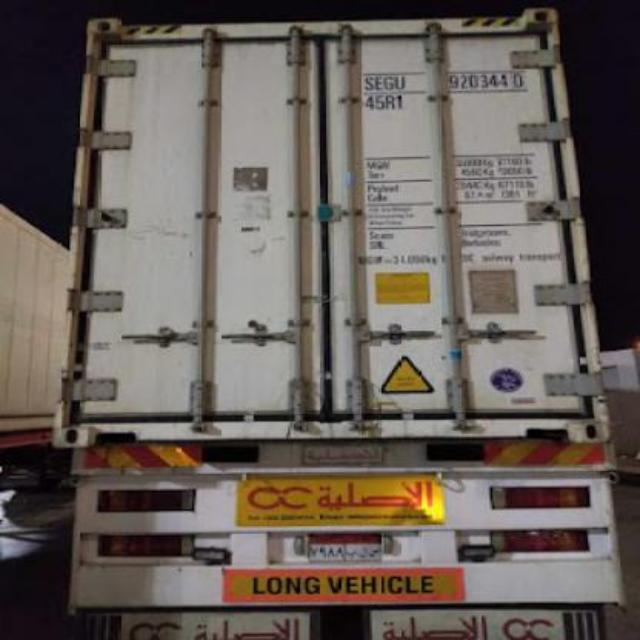0: (468, 74, 480, 90), (512, 74, 524, 90)
2: (460, 72, 468, 92)
3: (478, 74, 490, 90)
4: (488, 74, 500, 90), (498, 72, 510, 88)
9: (448, 75, 460, 91)
E: (376, 75, 384, 91)
G: (382, 75, 396, 91)
S: (362, 76, 376, 92)
U: (394, 75, 406, 88)
